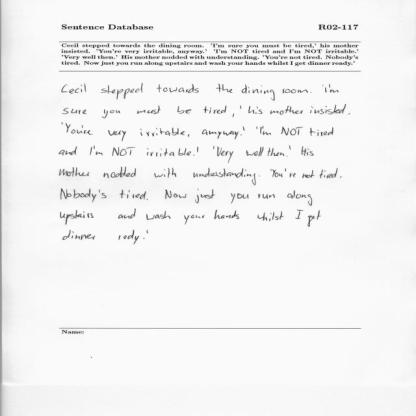Handwritten text: (56, 164, 342, 188), (58, 79, 341, 102), (59, 102, 354, 120), (58, 188, 319, 208), (58, 210, 326, 229), (57, 143, 323, 162), (61, 123, 342, 140), (62, 228, 145, 252)
